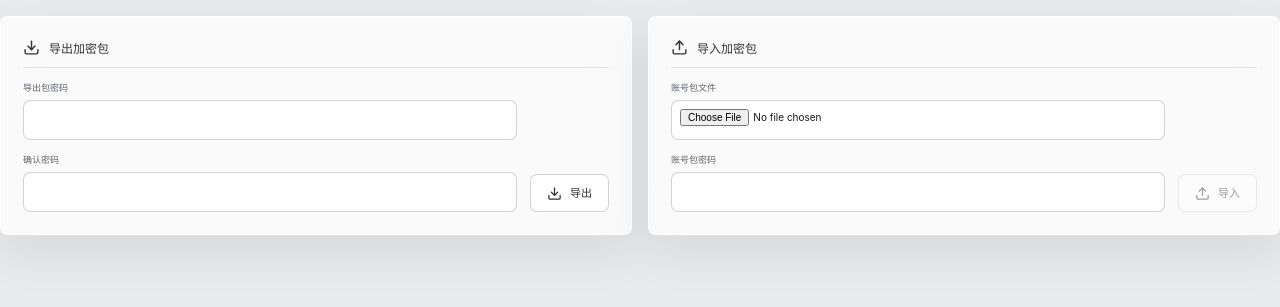
Test: AccountTransfer › rejects mismatched export passwords without sending them
Type "first bundle password" into the password field labelled "导出包密码". click: (270,120)
box: [23,100,517,140]
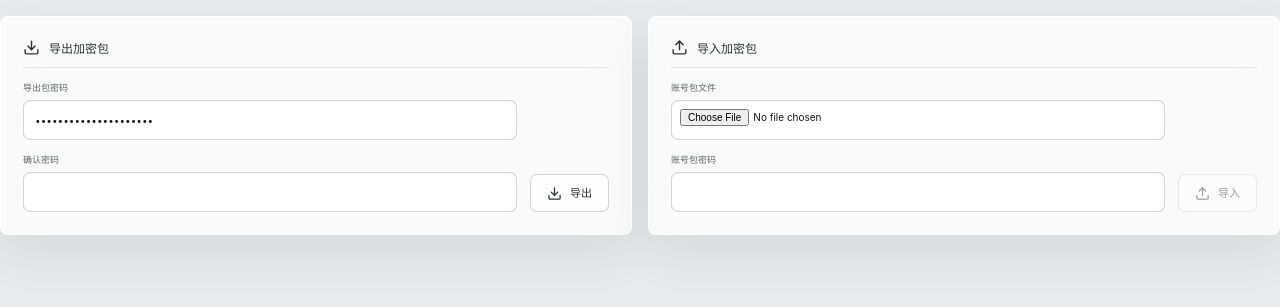
Type "second bundle password" into the password field labelled "确认密码". click: (270,192)
box: [23,172,517,212]
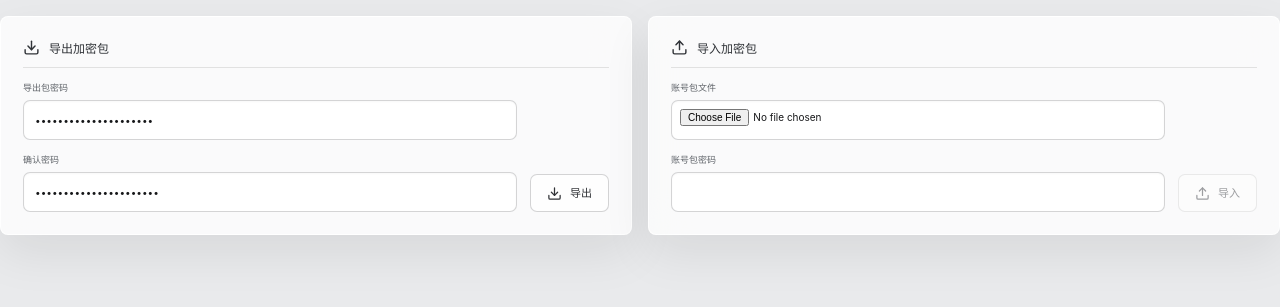
Click the button "导出". click: (570,193)
box: [530,174,609,212]
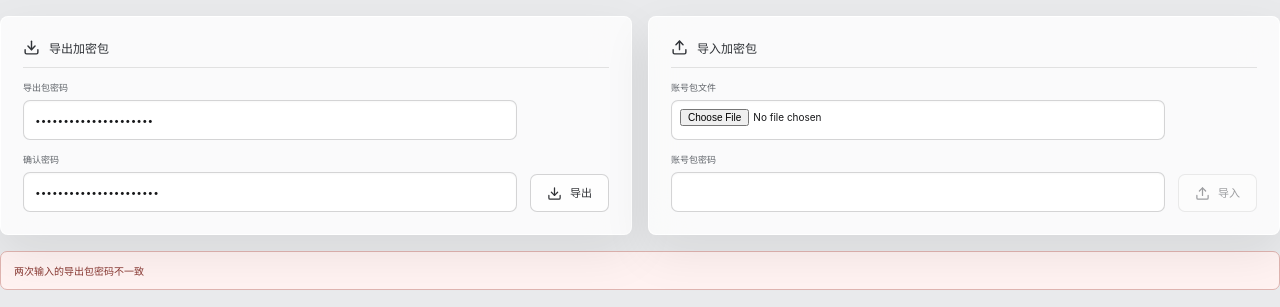
Check: the message reads "两次输入的导出包密码不一致", box [14,265,144,277]
